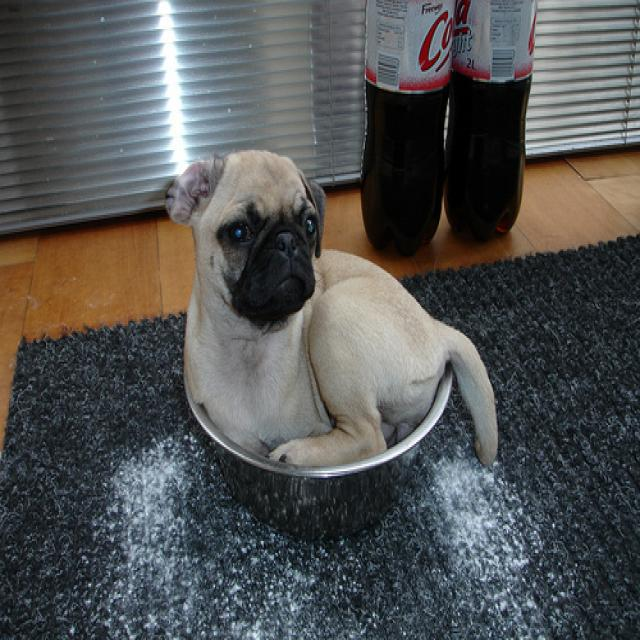dog-pug: (156, 147, 506, 481)
